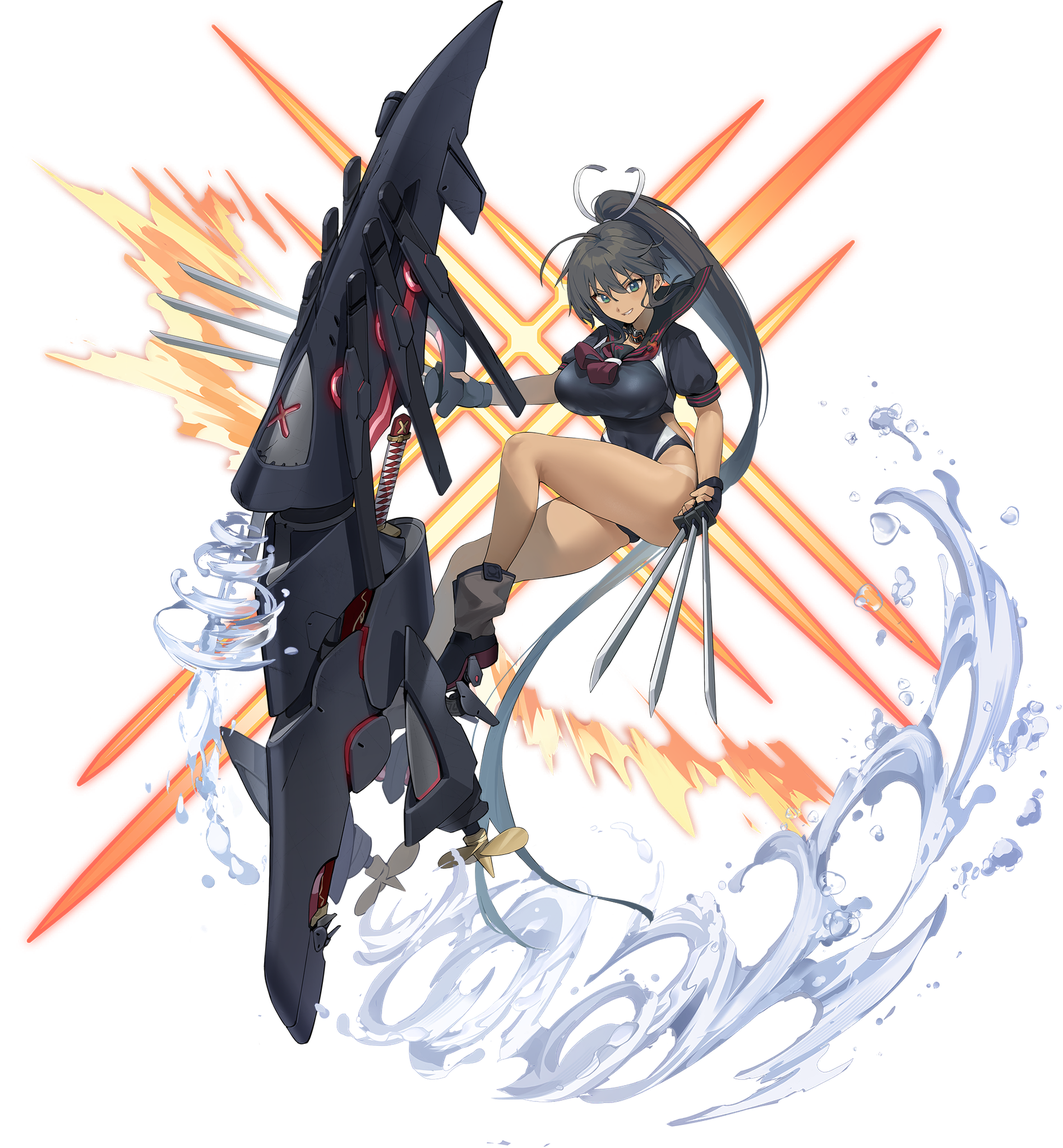person: (429, 172, 769, 785)
